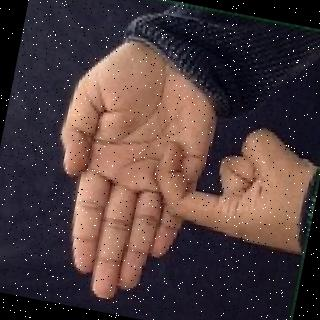R: (26, 35, 320, 320)
